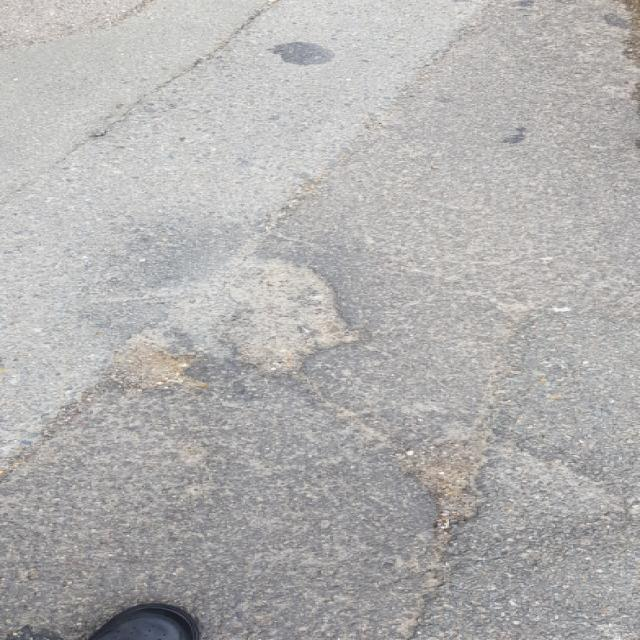Pothole: (99, 250, 375, 395)
